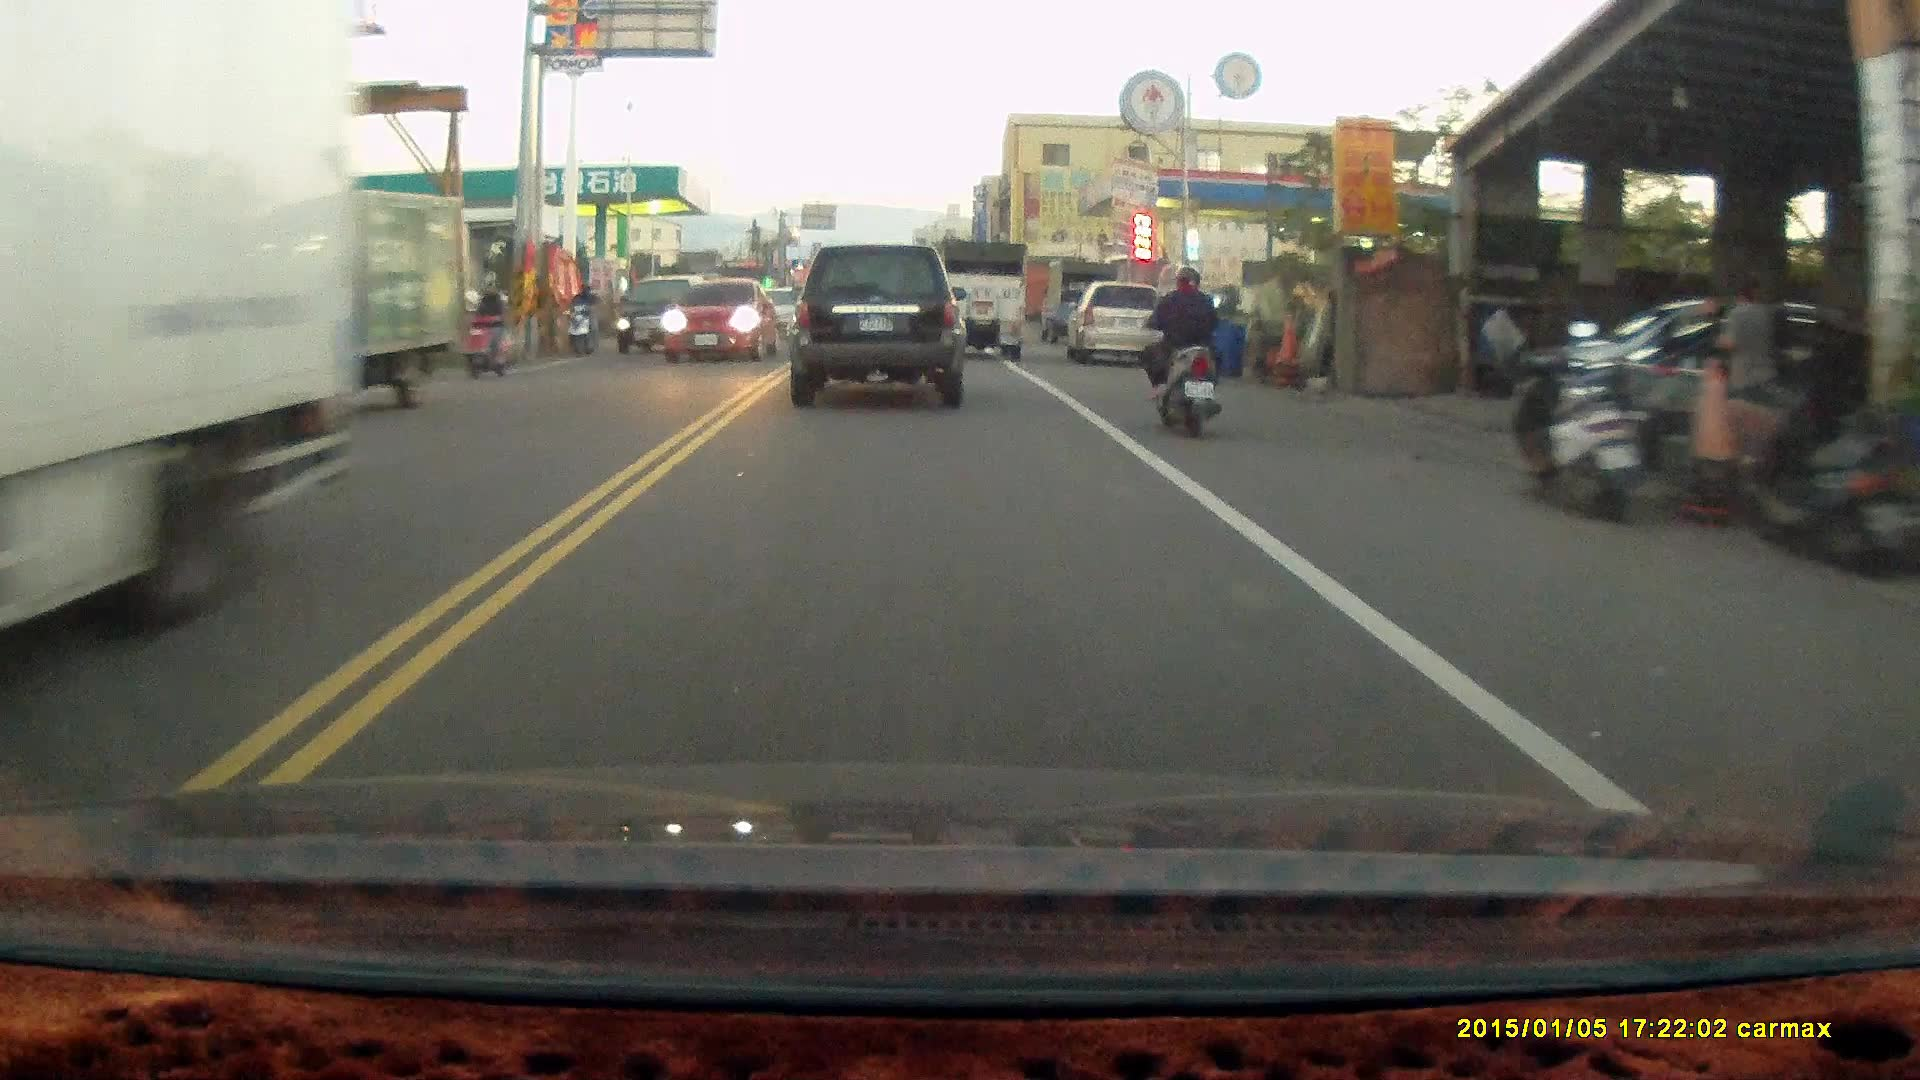pedestrian: (1716, 280, 1777, 437)
rider: (1141, 267, 1233, 444), (454, 278, 524, 375), (567, 280, 602, 356)
vehicle: (1, 17, 352, 662), (785, 243, 968, 412), (936, 238, 1029, 361), (664, 284, 786, 365), (1070, 284, 1168, 371), (616, 276, 711, 356)
